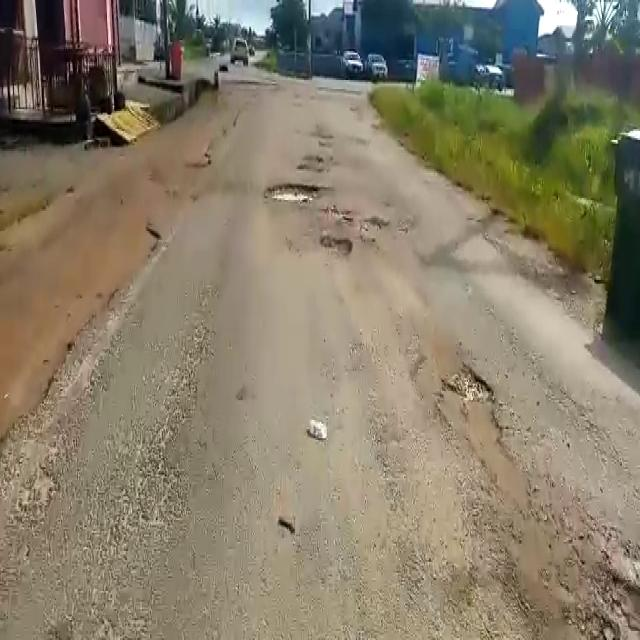Pothole: (436, 363, 536, 514), (263, 180, 321, 201), (316, 232, 354, 254)
